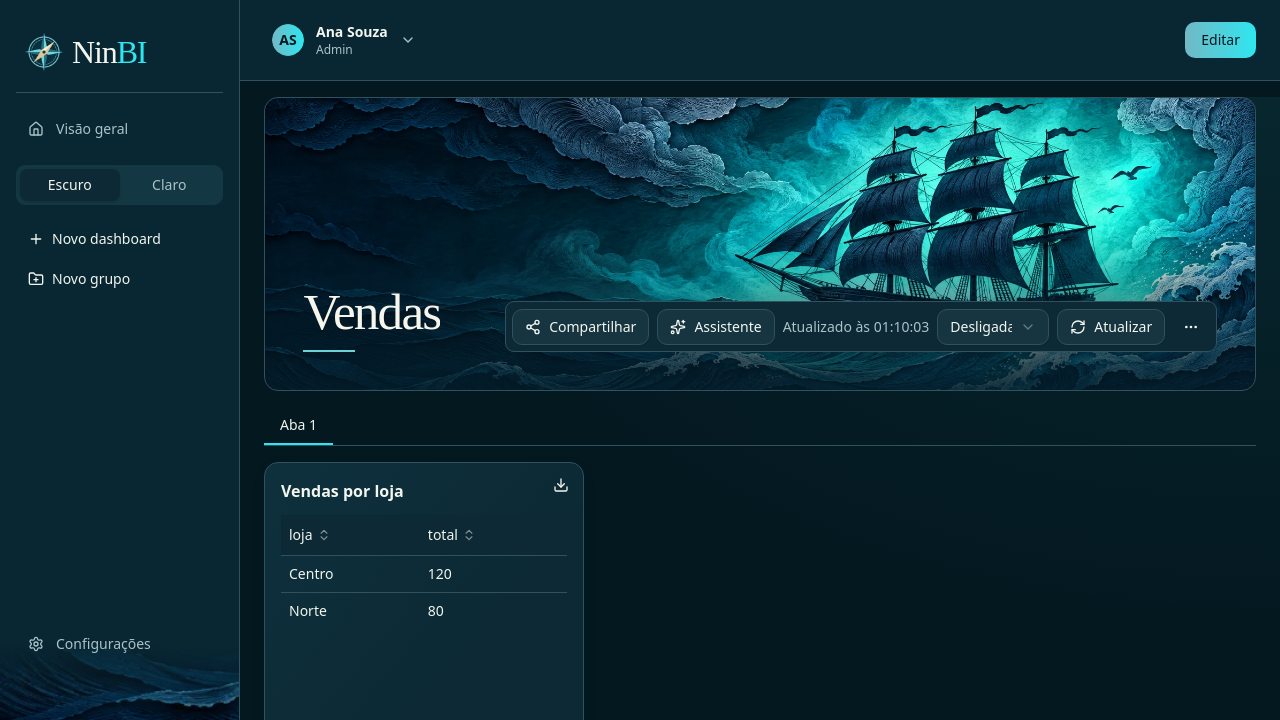
DashboardPage troca de conexão › SMG-05 trocar para outro tipo pede confirmação
The image size is (1280, 720).
Step 1. Click the button "Editar" → x=1221, y=40, box [1185,22,1256,58]
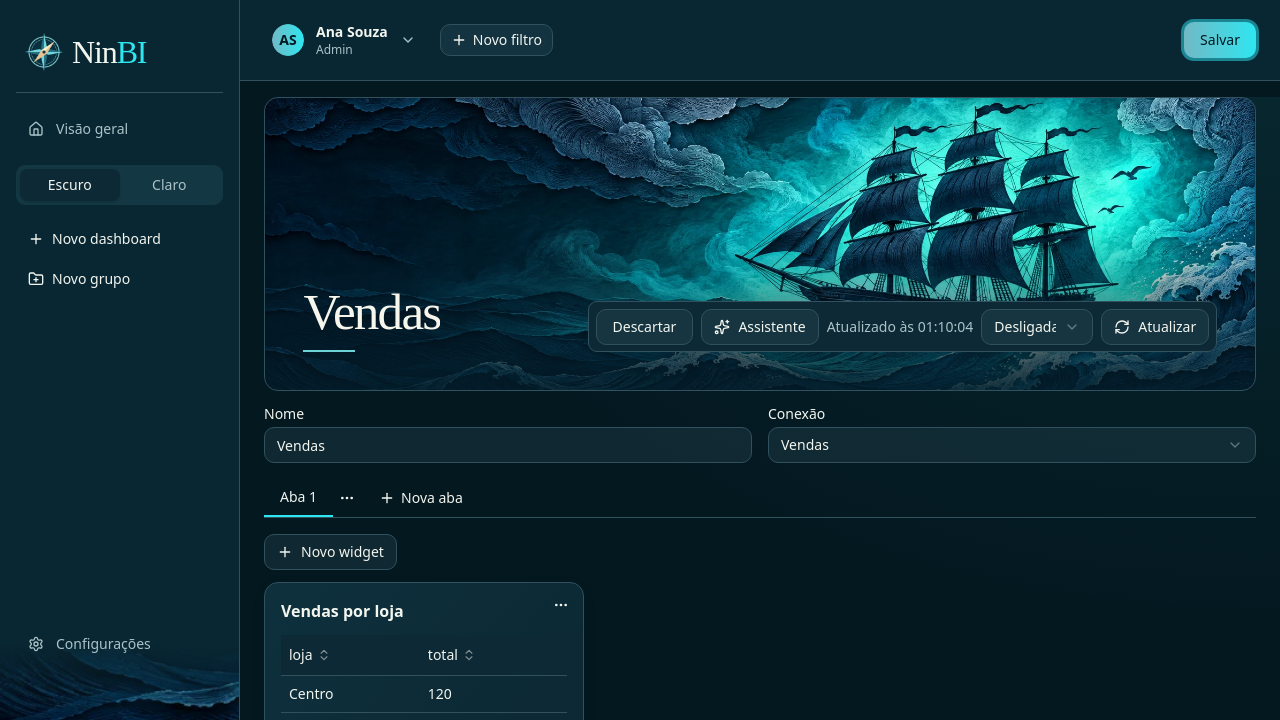
Step 2. Click the dropdown named "Conexão" → x=805, y=445, box [768,427,1256,463]
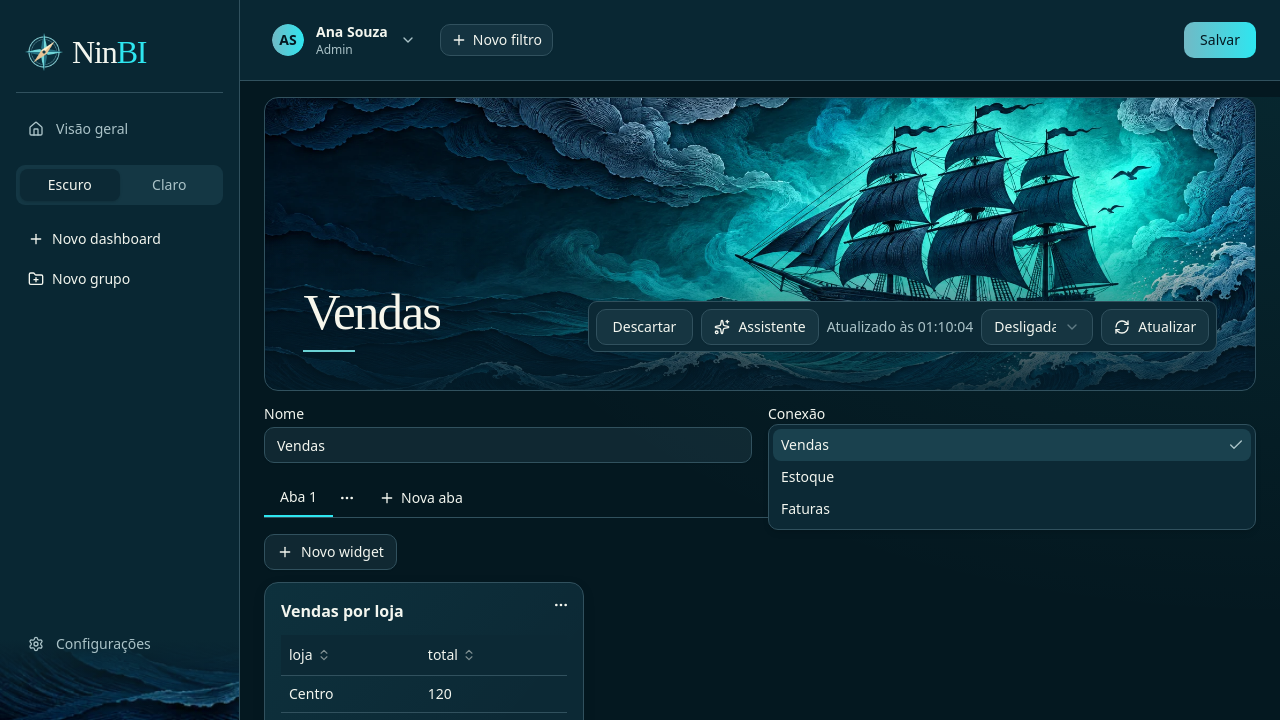
Step 3. Click the option "Faturas" → x=805, y=509, box [781,499,830,518]
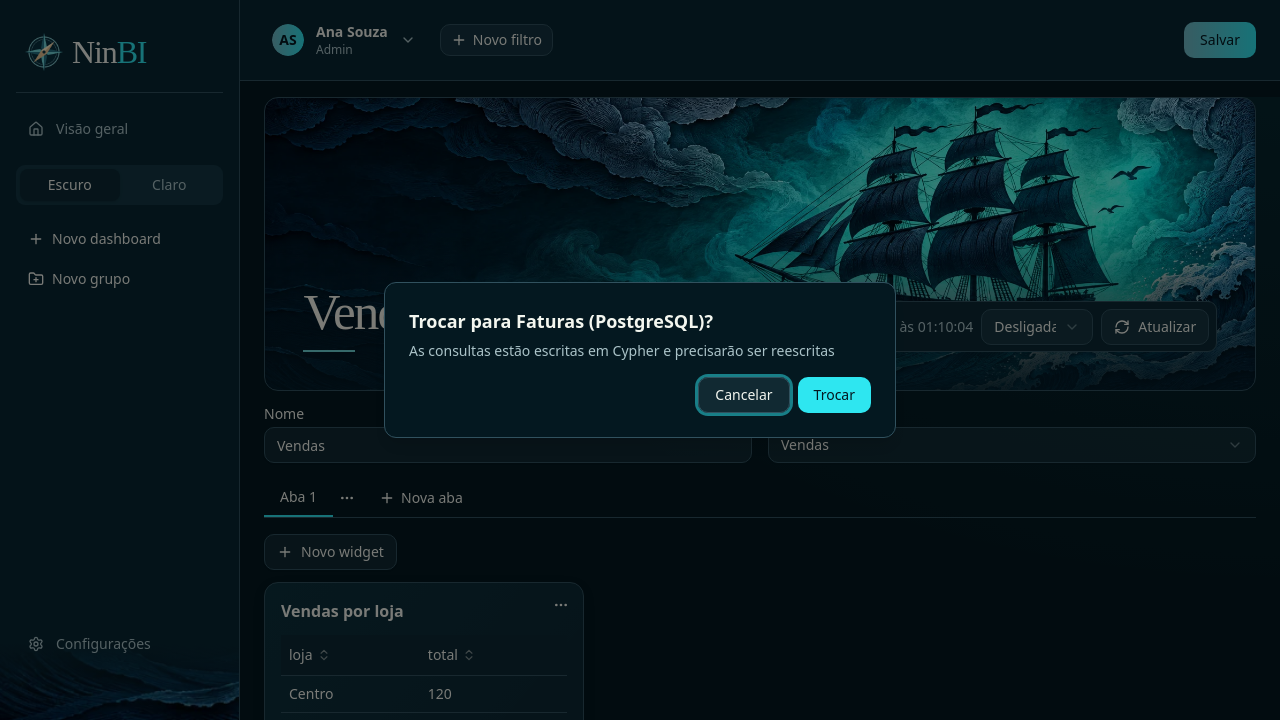
Now the heading "Trocar para Faturas (PostgreSQL)?" is shown, box [409,307,713,335]
Now the text "As consultas estão escritas em Cypher e precisarão ser reescritas" is shown, box [409,341,835,361]
Step 4. Click the button "Trocar" → x=834, y=395, box [798,377,871,413]
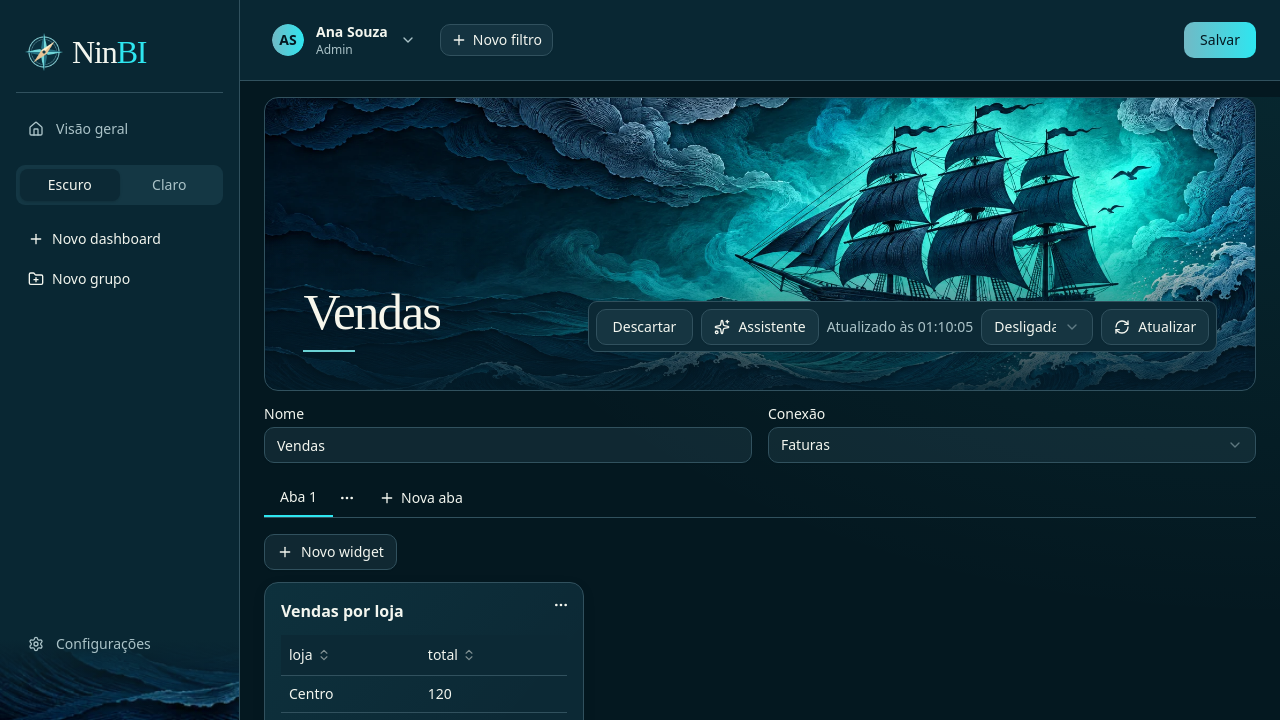
Now the dialog is gone
Now the dropdown named "Conexão" reads "Faturas", box [768,427,1256,463]
